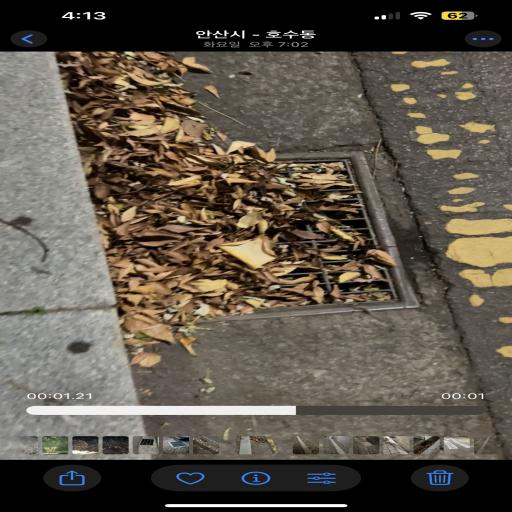debris: (111, 185, 323, 312), (210, 162, 359, 218), (135, 166, 215, 205), (305, 213, 364, 247), (320, 258, 382, 282), (331, 285, 390, 305), (366, 247, 396, 267), (321, 243, 347, 261), (324, 191, 350, 200), (293, 230, 315, 238), (389, 276, 400, 291), (109, 185, 129, 193), (111, 174, 127, 182), (280, 242, 287, 258), (316, 205, 338, 210), (129, 183, 143, 190), (340, 207, 356, 212), (240, 273, 250, 280), (186, 188, 195, 194)
drain: (105, 162, 412, 312)
